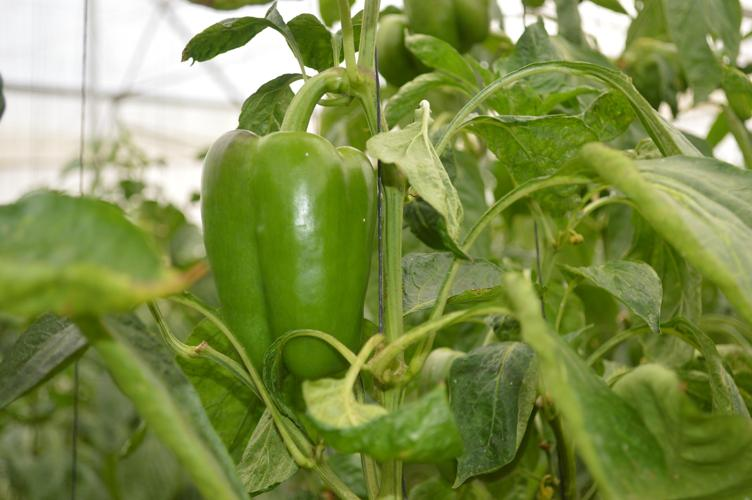BellPepper: (204, 129, 377, 369)
